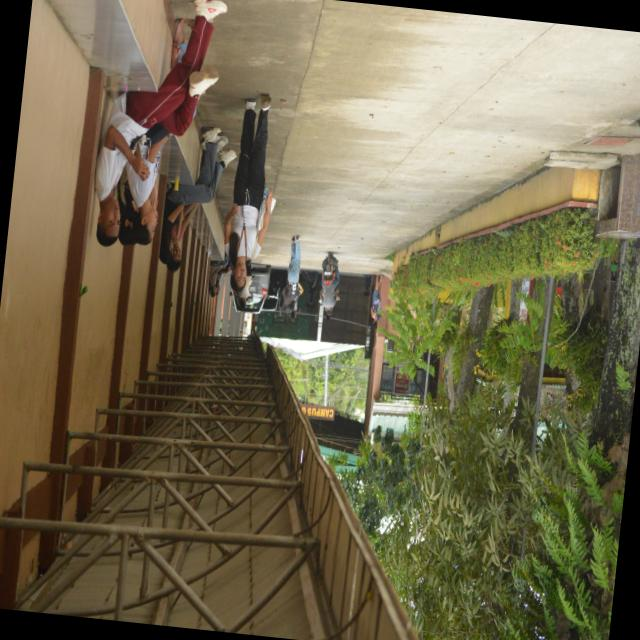person: (94, 0, 226, 245), (159, 127, 234, 263), (224, 94, 272, 290), (282, 235, 302, 310), (320, 265, 338, 314), (370, 271, 382, 328)
